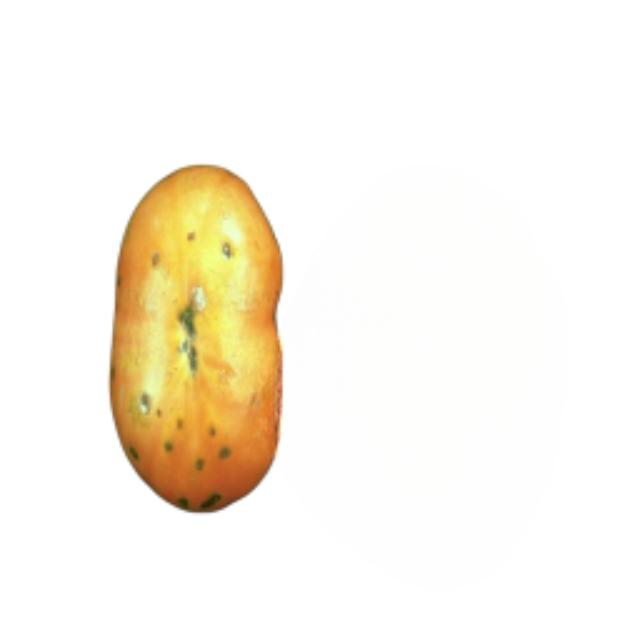defect: (102, 144, 302, 539)
